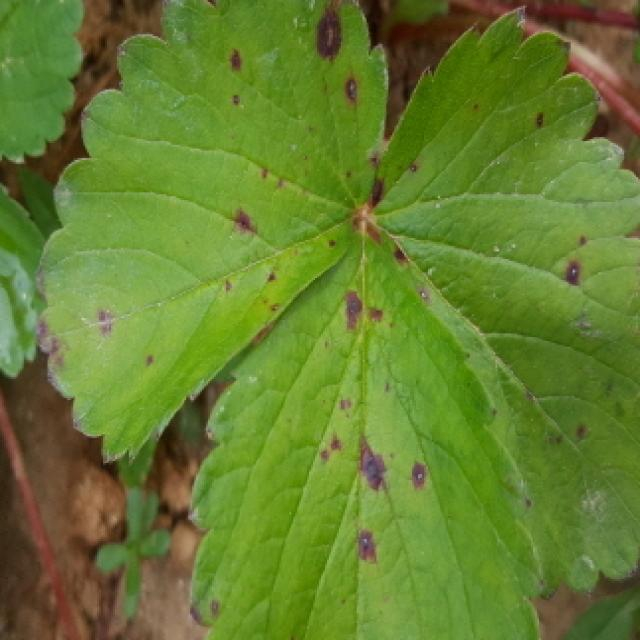Leaf Spot: (32, 0, 391, 465), (367, 3, 640, 601), (187, 216, 543, 640)
